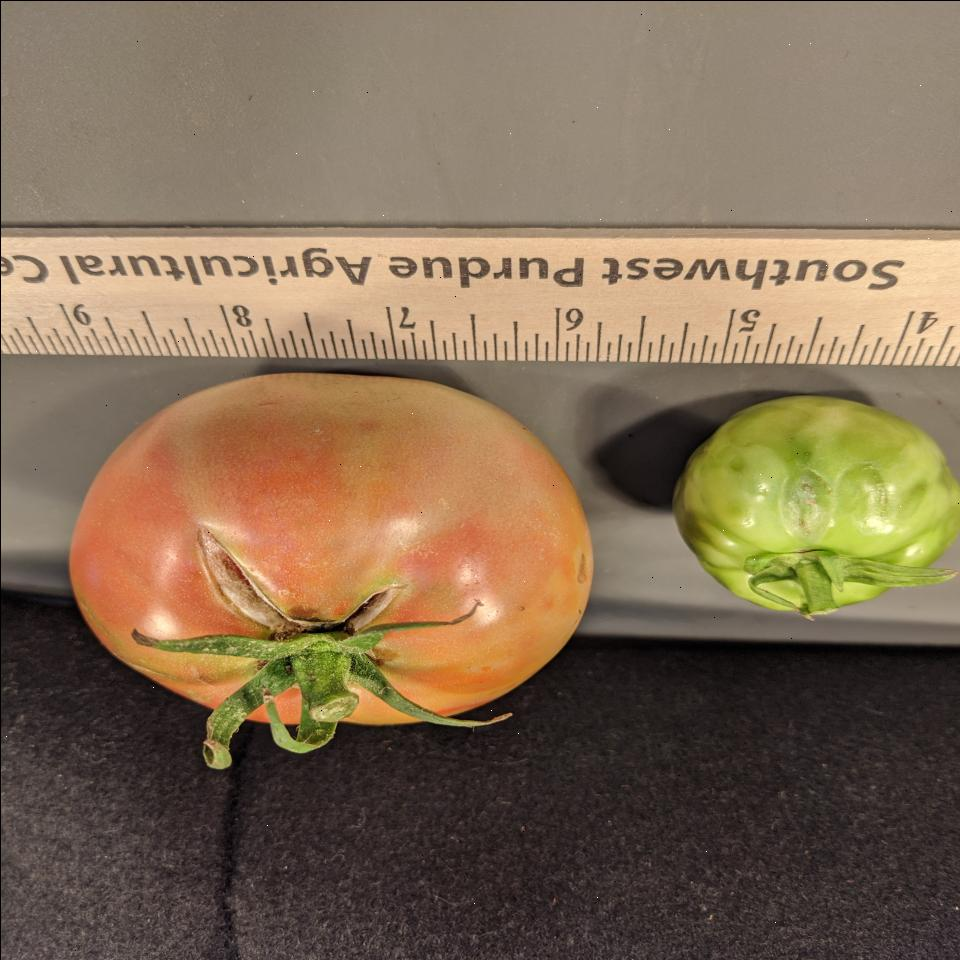Spotted wilt Virus: (67, 369, 592, 716), (67, 371, 592, 715), (674, 390, 960, 616), (671, 394, 960, 609)
